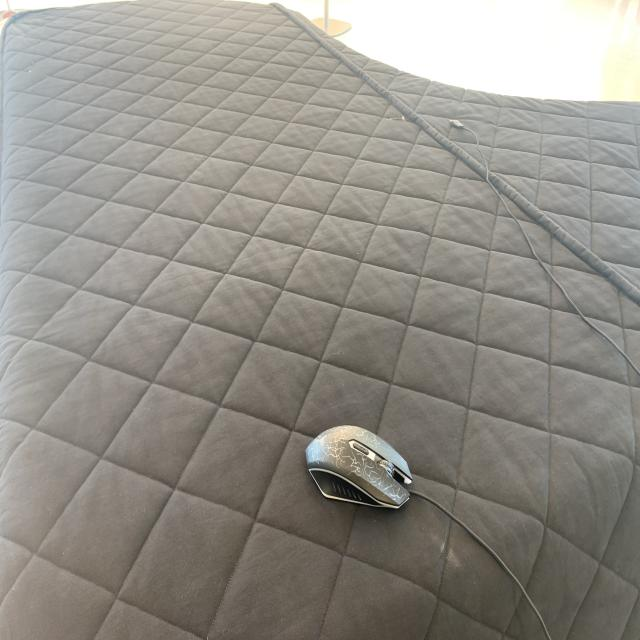Mouse: (302, 415, 424, 533)
